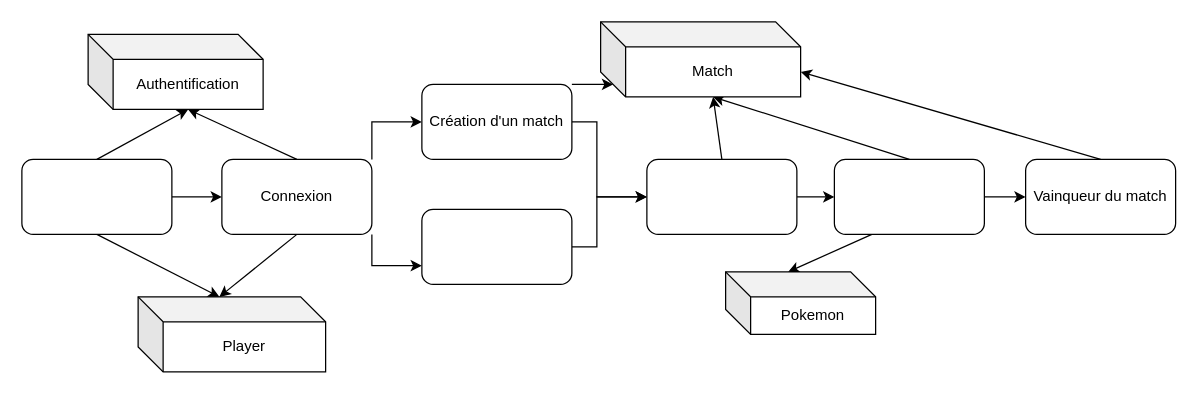
Image size: 1198x394. Some labels were removed from this diagram. The centre of each missing label's shape, as x and y in pixels:
Creation d'un compte: (x=96, y=196)
Jouer le match: (x=908, y=196)
Lancement d'un match: (x=721, y=196)
Rejoindre un match: (x=496, y=246)
